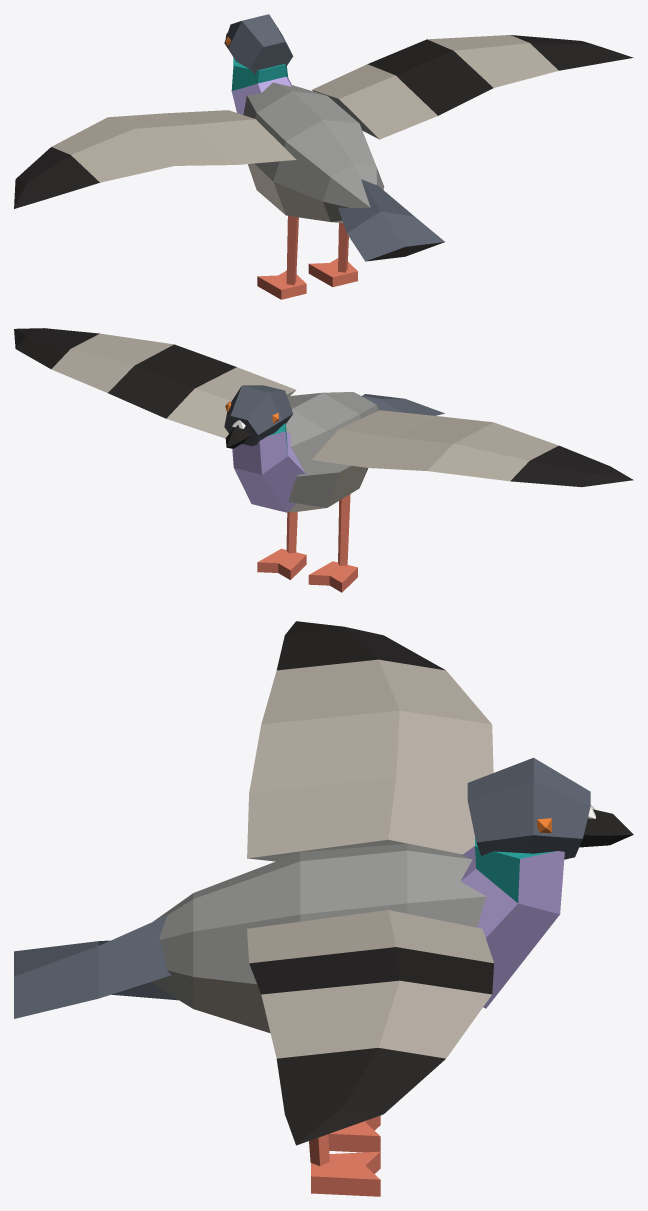
The model's file is pigeon.glb.
3 views of the same model, one above another, from view 1: azimuth 30°, elevation 25°; view 2: azimuth 150°, elevation 25°; view 3: azimuth 270°, elevation 25° (orthographic). The views are drawn at different scales.
Visible parts, largest first — view 1: Wing_R, Wing_L, Body, Tail, Head, Legs; view 2: Wing_L, Wing_R, Head, Body, Legs, Tail; view 3: Wing_L, Wing_R, Body, Head, Tail, Legs.
Part boxes in pixels (x1=…): Wing_R: x1=312, y1=35, x2=633, y2=139; Wing_L: x1=14, y1=110, x2=296, y2=208; Body: x1=243, y1=82, x2=384, y2=223; Tail: x1=338, y1=179, x2=444, y2=261; Head: x1=224, y1=14, x2=293, y2=114; Legs: x1=257, y1=216, x2=357, y2=299; Wing_L: x1=312, y1=410, x2=633, y2=487; Wing_R: x1=14, y1=328, x2=295, y2=438; Head: x1=224, y1=385, x2=305, y2=512; Body: x1=286, y1=392, x2=378, y2=512; Legs: x1=257, y1=494, x2=357, y2=592; Tail: x1=362, y1=394, x2=444, y2=415; Wing_L: x1=247, y1=621, x2=493, y2=861; Wing_R: x1=247, y1=910, x2=494, y2=1145; Body: x1=150, y1=843, x2=486, y2=1033; Head: x1=460, y1=757, x2=633, y2=1008; Tail: x1=14, y1=915, x2=178, y2=1018; Legs: x1=309, y1=1115, x2=380, y2=1196.
Size of the model in its own units: 0.6582 by 0.2293 by 0.3289.
